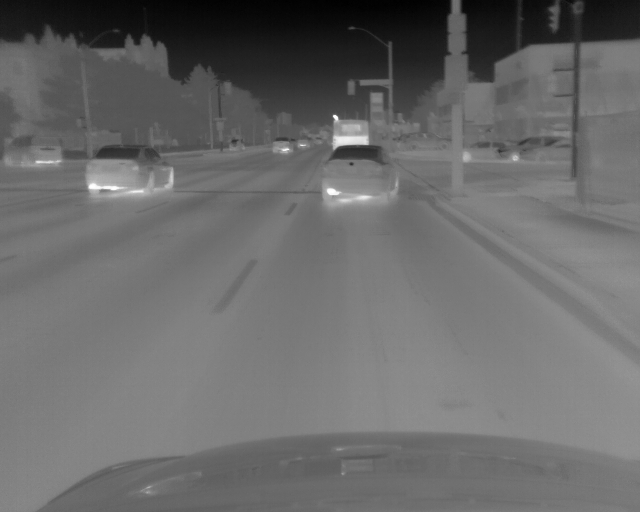car: (84, 144, 175, 197), (320, 144, 399, 204), (3, 133, 63, 169), (503, 133, 575, 161), (332, 120, 371, 150), (394, 131, 448, 152), (458, 141, 503, 163), (272, 137, 292, 156), (227, 137, 246, 152), (294, 136, 314, 149)
